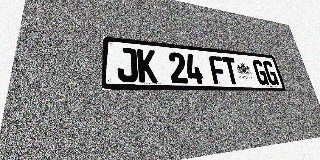2: (168, 52, 188, 83)
4: (184, 53, 204, 84)
F: (208, 55, 227, 84)
G: (252, 60, 269, 85), (262, 60, 279, 85)
J: (117, 47, 138, 82)
K: (137, 49, 158, 83)
T: (222, 57, 240, 84)
